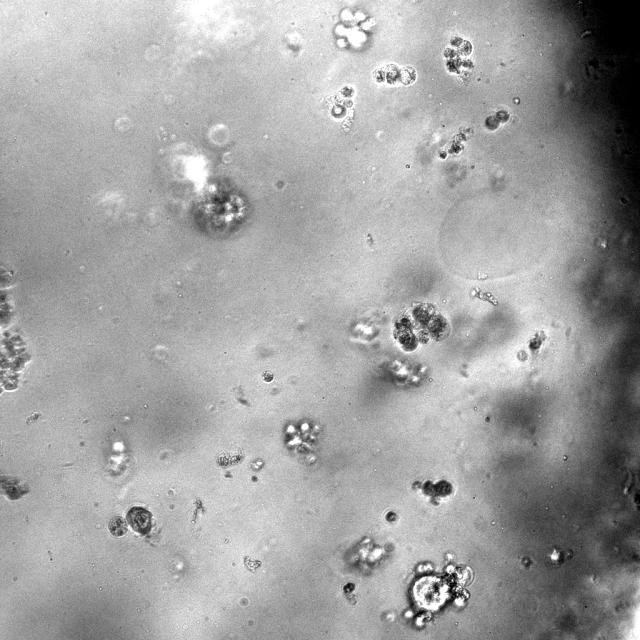organoid: (402, 552, 474, 628), (0, 264, 30, 393), (392, 301, 449, 353), (192, 182, 248, 234), (345, 535, 394, 574), (282, 420, 321, 464), (334, 7, 374, 49), (442, 35, 473, 81), (108, 505, 152, 537), (411, 479, 453, 506), (438, 127, 472, 160), (373, 63, 416, 86), (326, 85, 354, 119), (217, 441, 244, 467), (0, 475, 29, 499), (485, 109, 509, 130), (384, 509, 398, 523), (261, 369, 274, 383), (342, 582, 356, 594)
